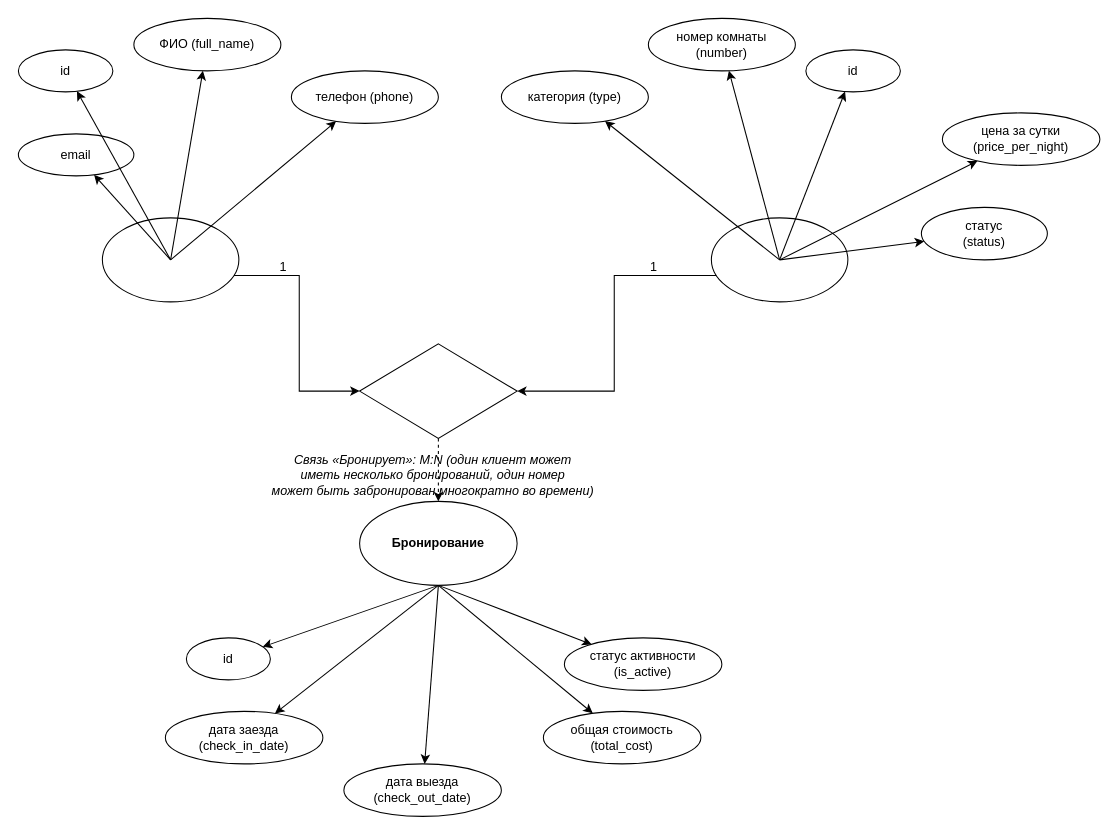
Some shapes in this 1118 by 835 pixel diagram are drawn without their labels. Here are the shapes that lost their labels. From the top down, the centre of each, then its label:
At (x=170, y=259): "Клиент".
At (x=779, y=259): "Номер".
At (x=438, y=390): "Бронирует".
